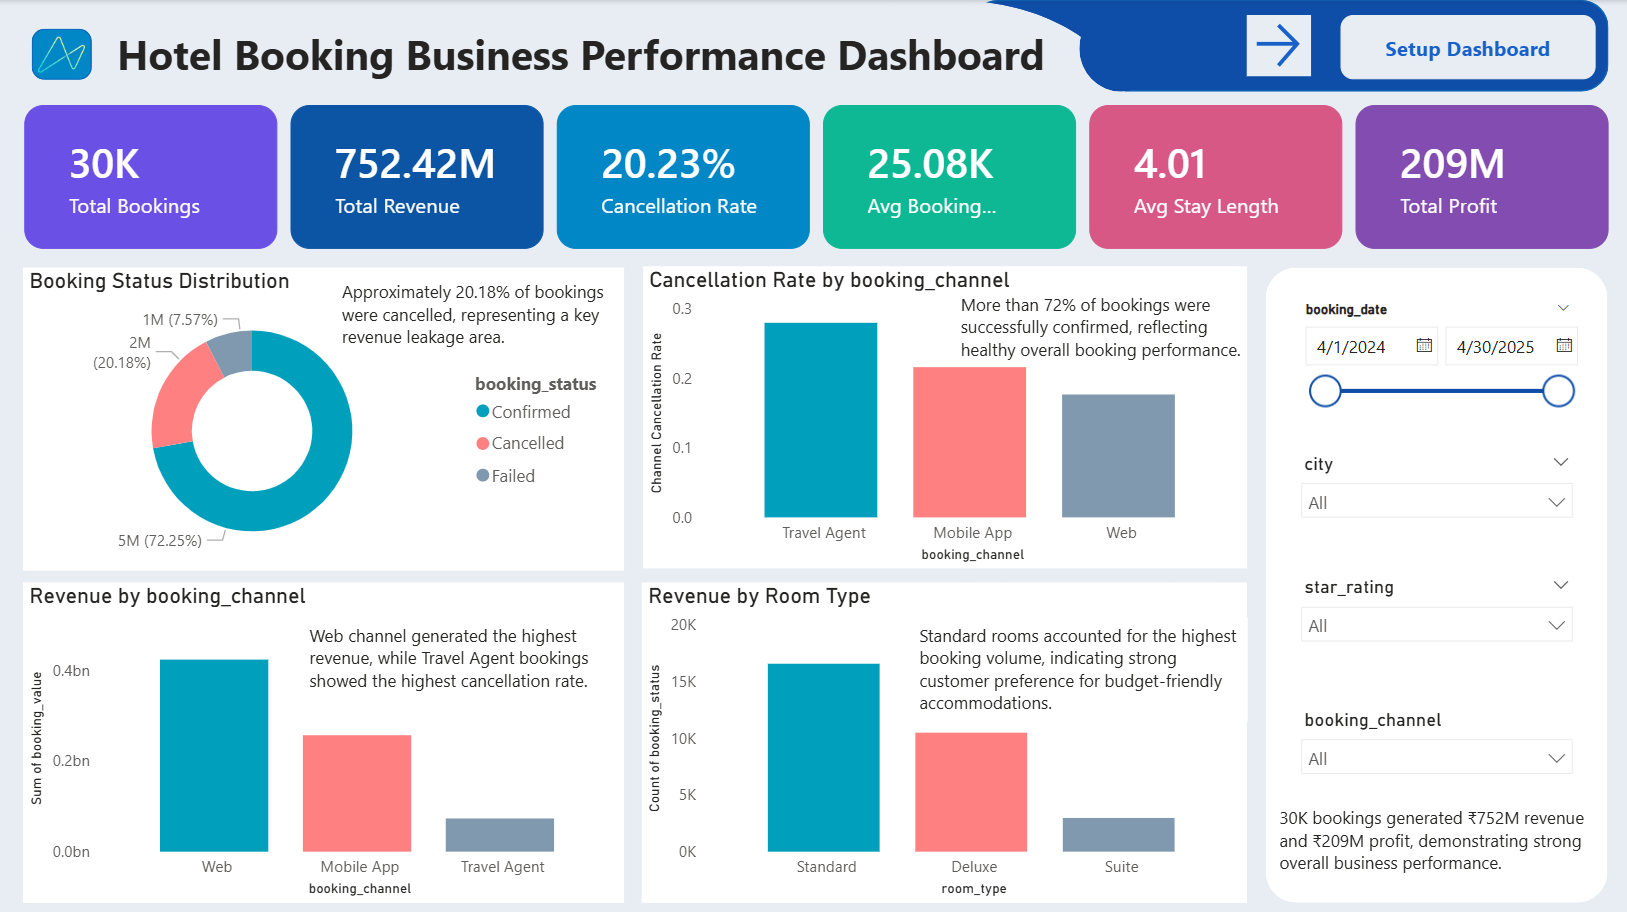

Layout of this report page (visuals, bound fields, positions):
{"tool":"powerbi","page":{"name":"Executive Summary","canvas":[1280,720],"ordinal":0},"visuals":[{"type":"shape","box":[762.2,0,500.2,71.8],"z":0},{"type":"shape","box":[26.4,22.4,47,40],"z":0,"group":"g1"},{"type":"cardVisual","fields":{"Data":["Table.Total Bookings"]},"box":[20.2,82.8,198.4,112.6],"z":0,"group":"g3"},{"type":"shape","box":[608.7,0,278.3,182.7],"z":1000},{"type":"group","id":"g1","title":"Group 2","box":[26.4,22.4,47,40],"z":1000,"group":"g2"},{"type":"cardVisual","fields":{"Data":["Table.Total Revenue"]},"box":[228.9,82.8,198.4,112.6],"z":1000,"group":"g3"},{"type":"shape","box":[847.9,3.8,65.5,68],"z":2000},{"type":"cardVisual","fields":{"Data":["Table.Cancellation Rate"]},"box":[437.6,82.8,198.4,112.6],"z":2000,"group":"g3"},{"type":"textbox","box":[87.7,15.4,755.9,55.3],"z":3000,"group":"g2"},{"type":"cardVisual","fields":{"Data":["Table.Avg Booking Value"]},"box":[646.3,82.8,198.4,112.6],"z":3000,"group":"g3"},{"type":"shape","box":[993.4,209.8,268.3,498],"z":3000},{"type":"image","box":[31.1,26,36.7,32.9],"z":4000,"group":"g1"},{"type":"cardVisual","fields":{"Data":["Table.Avg Stay Length"]},"box":[855,82.8,198.4,112.6],"z":4000,"group":"g3"},{"type":"slicer","fields":{"Values":["hotel_cleaned.city"]},"box":[1011.7,350.2,233.1,69.3],"z":4000},{"type":"cardVisual","fields":{"Data":["Table.Total Profit"]},"box":[1063.5,82.8,198.4,112.6],"z":5000,"group":"g3"},{"type":"slicer","fields":{"Values":["hotel_cleaned.booking_channel"]},"box":[1011.7,550.6,233.1,68],"z":5000},{"type":"slicer","fields":{"Values":["hotel_cleaned.star_rating"]},"box":[1011.7,447.2,233.1,71.8],"z":6000},{"type":"slicer","fields":{"Values":["hotel_cleaned.booking_date"]},"box":[1012,231.1,232.4,93],"z":7000},{"type":"clusteredColumnChart","title":"Revenue by Room Type","fields":{"Category":["hotel_cleaned.room_type"],"Y":["CountNonNull(hotel_cleaned.booking_status)"]},"box":[505,457,474,251],"z":8000},{"type":"actionButton","box":[1052,11.3,200.3,50.4],"z":9000},{"type":"group","id":"g2","title":"Group 3","box":[26.4,15.4,817,55.3],"z":10000},{"type":"donutChart","title":"Booking Status Distribution","fields":{"Category":["hotel_cleaned.booking_status"],"Y":["Sum(hotel_cleaned.customer_id)"]},"box":[20,209.3,471.4,237.5],"z":11000},{"type":"group","id":"g3","title":"Group 1","box":[20.2,82.8,1240.9,112.1],"z":12000},{"type":"columnChart","title":"Revenue by booking_channel ","fields":{"Category":["hotel_cleaned.booking_channel"],"Y":["Sum(hotel_cleaned.booking_value)"]},"box":[20,457,471,251],"z":13000},{"type":"columnChart","title":"Cancellation Rate by booking_channel","fields":{"Category":["hotel_cleaned.booking_channel"],"Y":["Table.Channel Cancellation Rate"]},"box":[505.2,209.1,473.7,236.9],"z":14000},{"type":"actionButton","box":[978.9,11.3,50.4,47.9],"z":15000},{"type":"textbox","box":[264.6,214.2,240.6,71.8],"z":16000},{"type":"textbox","box":[999.1,627.4,258.3,63],"z":17000},{"type":"textbox","box":[239.4,483.8,249.4,66.8],"z":18000},{"type":"textbox","box":[716.9,483.8,262,81.9],"z":19000},{"type":"textbox","box":[749.6,224.3,246.9,70.6],"z":19001}]}

Visuals, with their boxes in screenshot pixels (x1, y1, x2, y2), scaled from the page's 1280x720 canvas onto the 1627x912 screenshot:
shape: l=969, t=0, r=1605, b=91
shape: l=34, t=28, r=93, b=79
cardVisual - Table.Total Bookings: l=26, t=105, r=278, b=248
shape: l=774, t=0, r=1127, b=231
"Group 2" group: l=34, t=28, r=93, b=79
cardVisual - Table.Total Revenue: l=291, t=105, r=543, b=248
shape: l=1078, t=5, r=1161, b=91
cardVisual - Table.Cancellation Rate: l=556, t=105, r=808, b=248
textbox: l=111, t=20, r=1072, b=90
cardVisual - Table.Avg Booking Value: l=822, t=105, r=1074, b=248
shape: l=1263, t=266, r=1604, b=897
image: l=40, t=33, r=86, b=75
cardVisual - Table.Avg Stay Length: l=1087, t=105, r=1339, b=248
slicer - hotel_cleaned.city: l=1286, t=444, r=1582, b=531
cardVisual - Table.Total Profit: l=1352, t=105, r=1604, b=248
slicer - hotel_cleaned.booking_channel: l=1286, t=697, r=1582, b=784
slicer - hotel_cleaned.star_rating: l=1286, t=566, r=1582, b=657
slicer - hotel_cleaned.booking_date: l=1286, t=293, r=1582, b=411
"Revenue by Room Type" clusteredColumnChart: l=642, t=579, r=1244, b=897
actionButton: l=1337, t=14, r=1592, b=78
"Group 3" group: l=34, t=20, r=1072, b=90
"Booking Status Distribution" donutChart: l=25, t=265, r=625, b=566
"Group 1" group: l=26, t=105, r=1603, b=247
"Revenue by booking_channel " columnChart: l=25, t=579, r=624, b=897
"Cancellation Rate by booking_channel" columnChart: l=642, t=265, r=1244, b=565
actionButton: l=1244, t=14, r=1308, b=75
textbox: l=336, t=271, r=642, b=362
textbox: l=1270, t=795, r=1598, b=875
textbox: l=304, t=613, r=621, b=697
textbox: l=911, t=613, r=1244, b=717
textbox: l=953, t=284, r=1267, b=374
